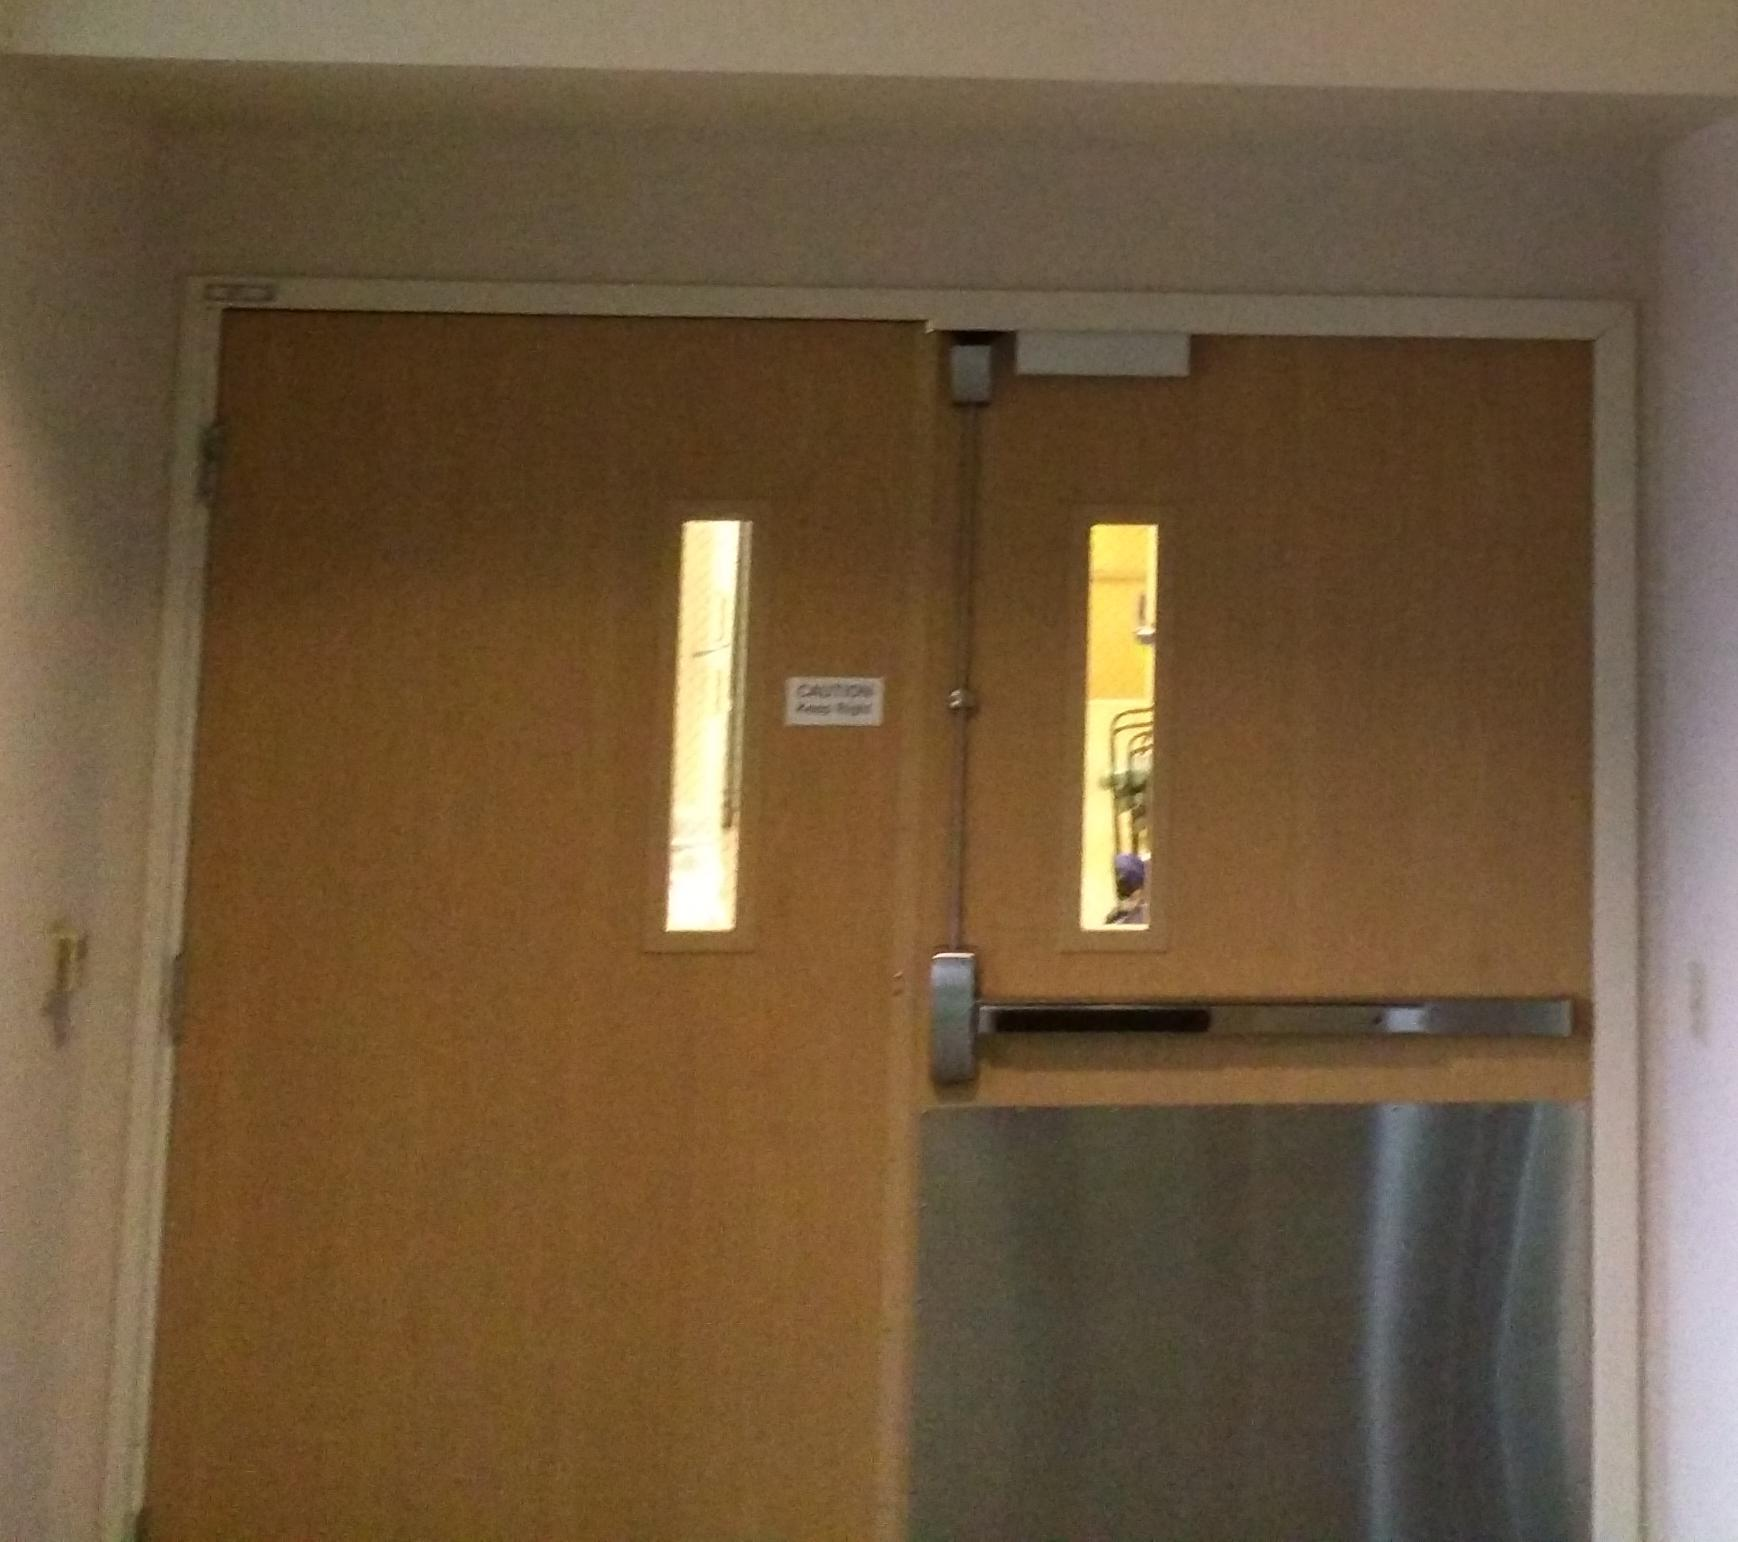door: (196, 302, 1606, 1535)
